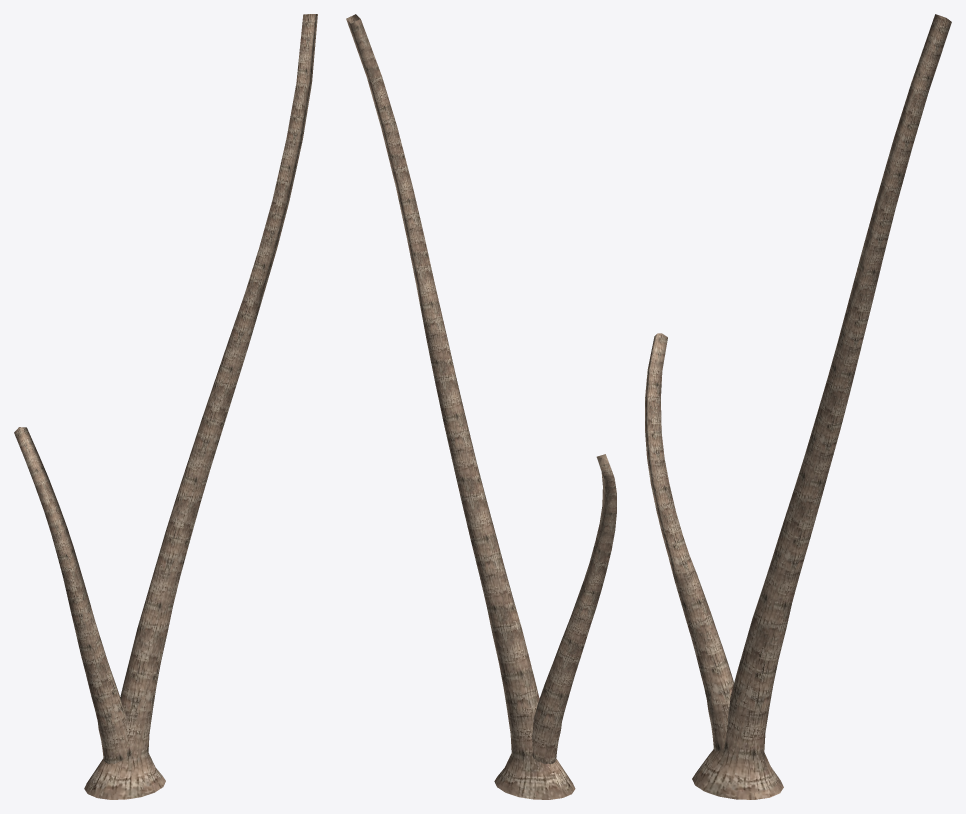
Rendered from m_palm_p2_23_trunk_0_lev2.glb.
3 views of the same model, side by side, from view 1: azimuth 30°, elevation 25°; view 2: azimuth 150°, elevation 25°; view 3: azimuth 330°, elevation 25° (orthographic). The views are drawn at different scales.
Visible parts, largest first — view 1: m_palm_p2_23_trunk_0_lev2; view 2: m_palm_p2_23_trunk_0_lev2; view 3: m_palm_p2_23_trunk_0_lev2.
Part boxes in pixels (left/top/right/bottom): m_palm_p2_23_trunk_0_lev2: left=14, top=14, right=317, bottom=799; m_palm_p2_23_trunk_0_lev2: left=346, top=14, right=616, bottom=799; m_palm_p2_23_trunk_0_lev2: left=645, top=14, right=951, bottom=799.
Size of the model in its own units: 1.68 by 4.13 by 0.3775.
1 material, 1 textured.
